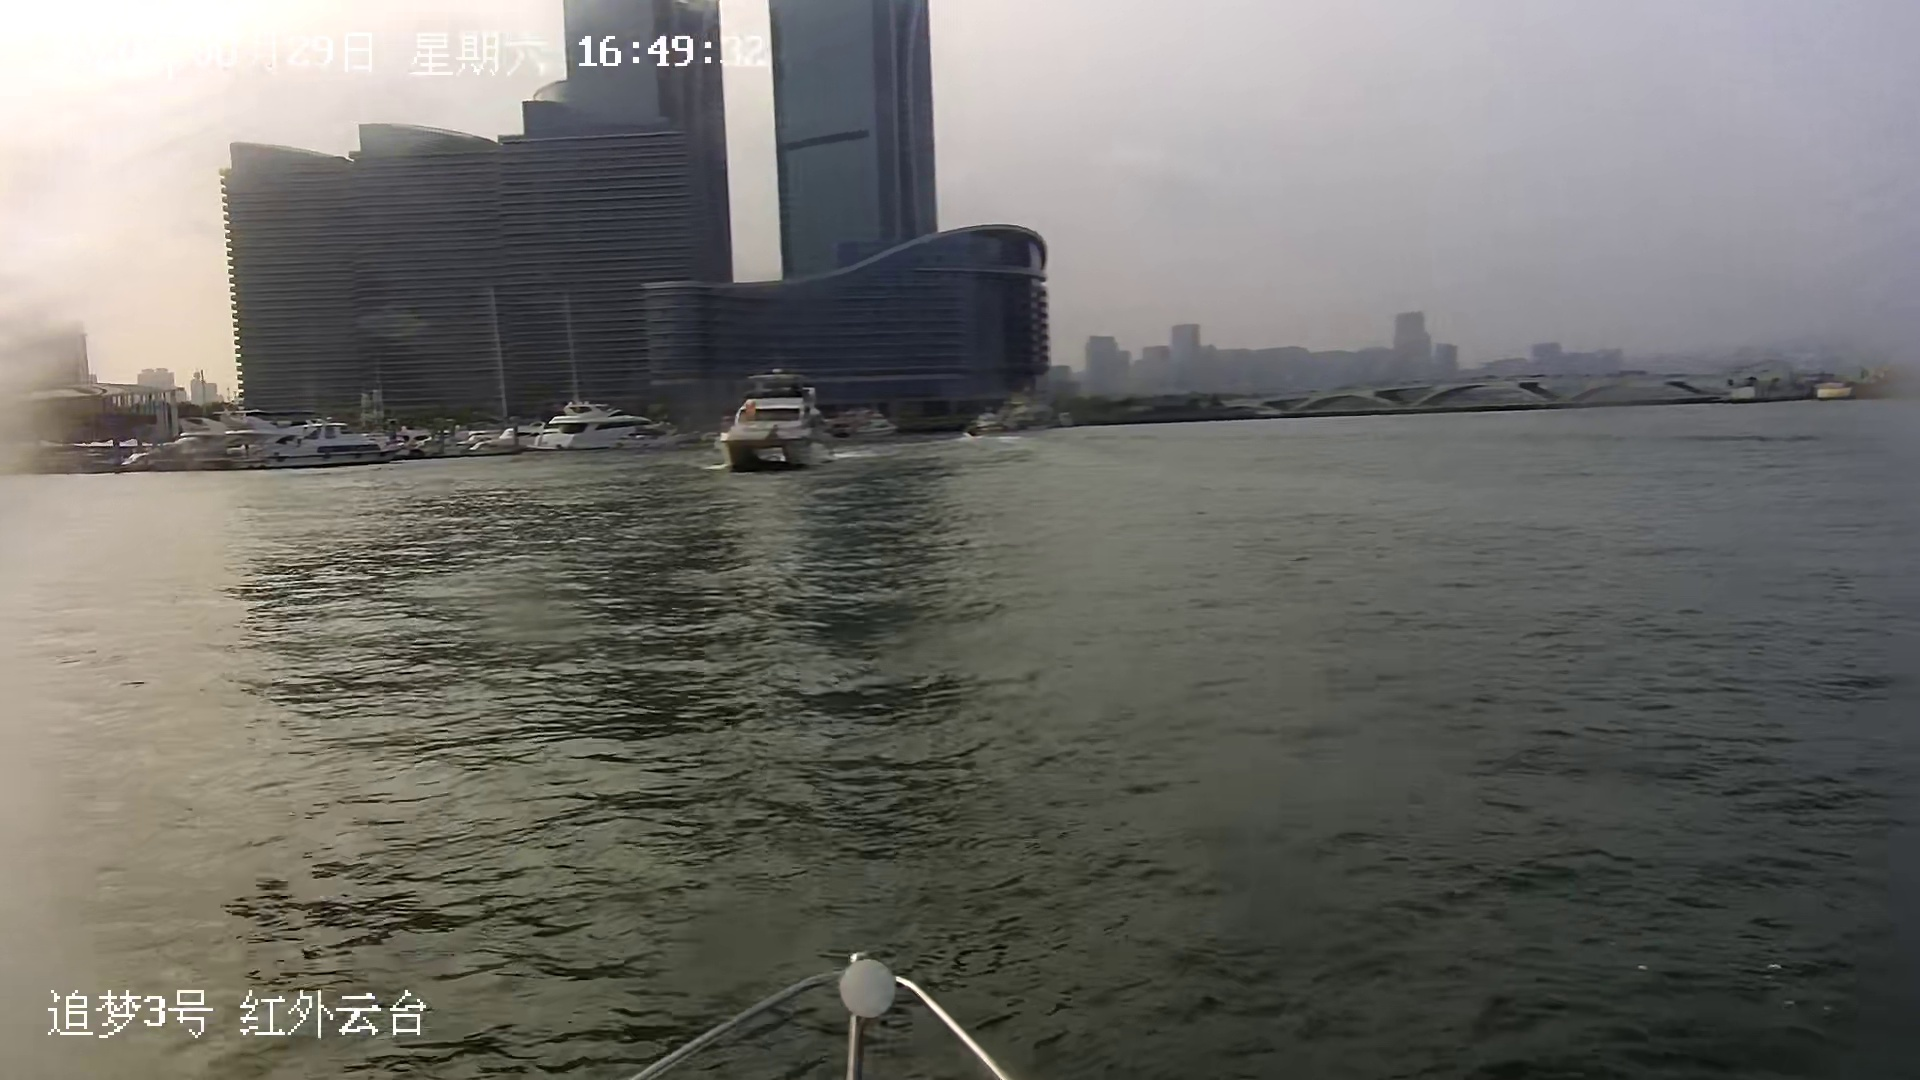barrier: (715, 371, 828, 477), (524, 404, 661, 451)
coast: (18, 1, 1920, 476)
